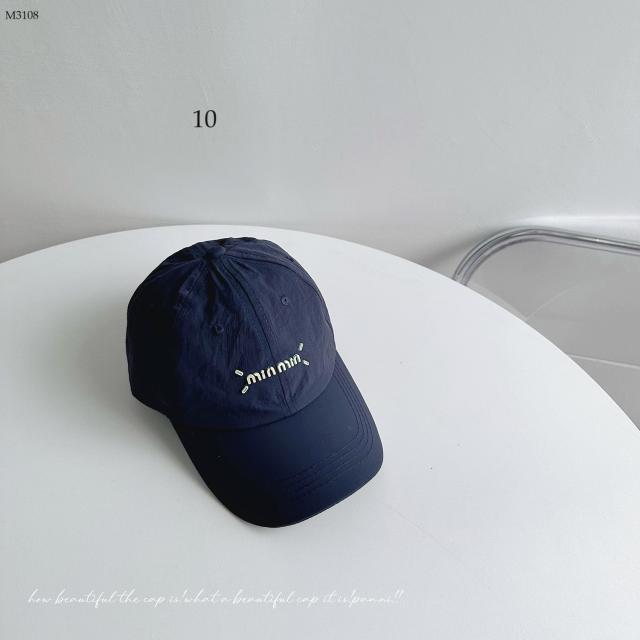Cap: (117, 229, 391, 537)
Full-face-helmet: (150, 478, 161, 490)
